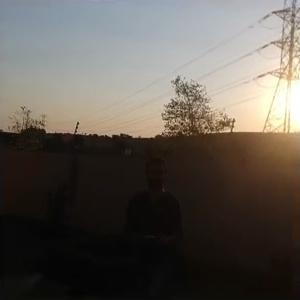follow: (119, 148, 187, 299)
